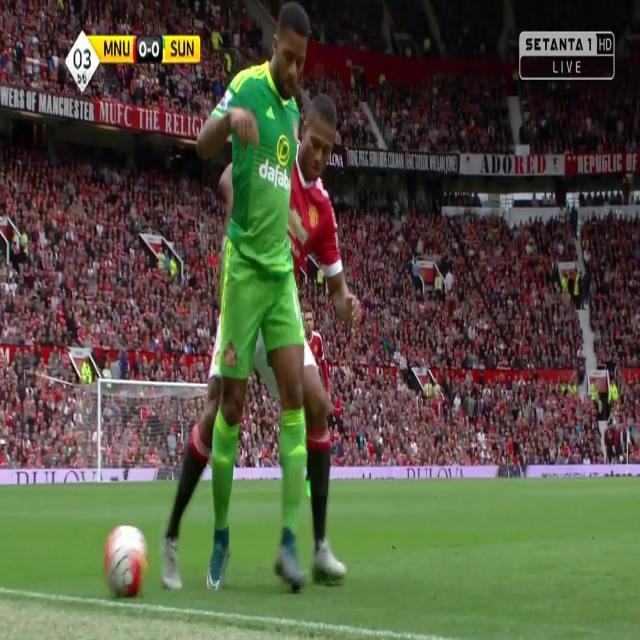Ball: (102, 522, 148, 601)
Player: (195, 2, 312, 595), (292, 85, 363, 591), (304, 298, 332, 400)
